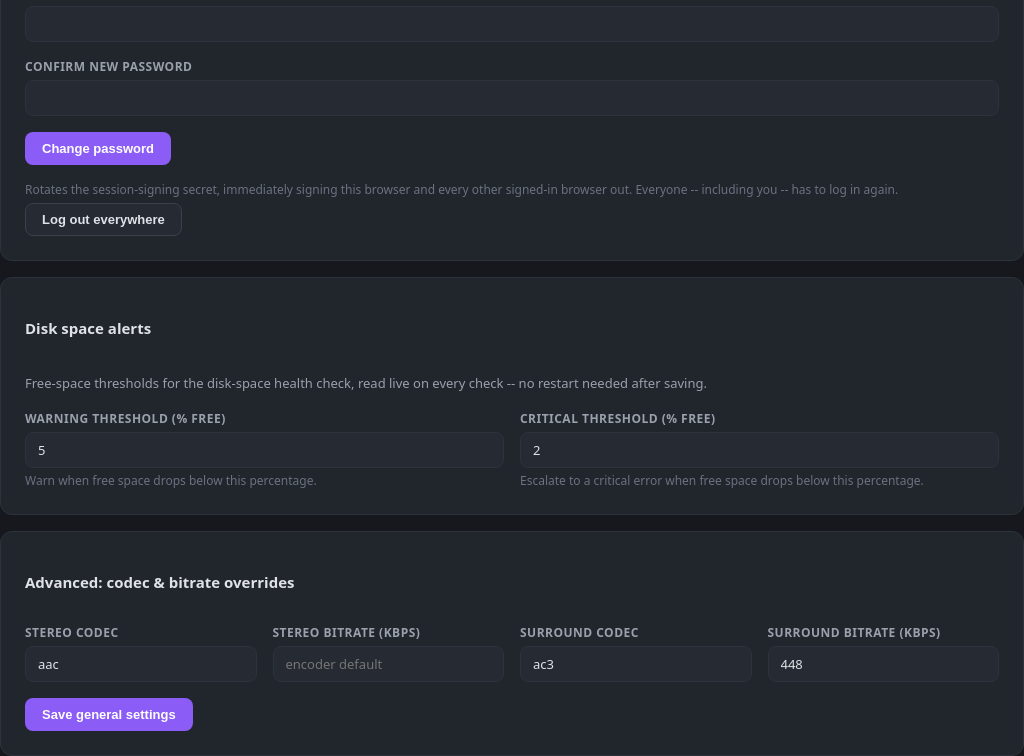
Test: GeneralSection › saves the disk-space thresholds via PUT with the edited values
The width and height of the screenshot is (1024, 756).
(page scrolled)
Replace the text in the number field labelled "Warning threshold (% free)" with "10" at (264, 450), box [25,432,504,468]
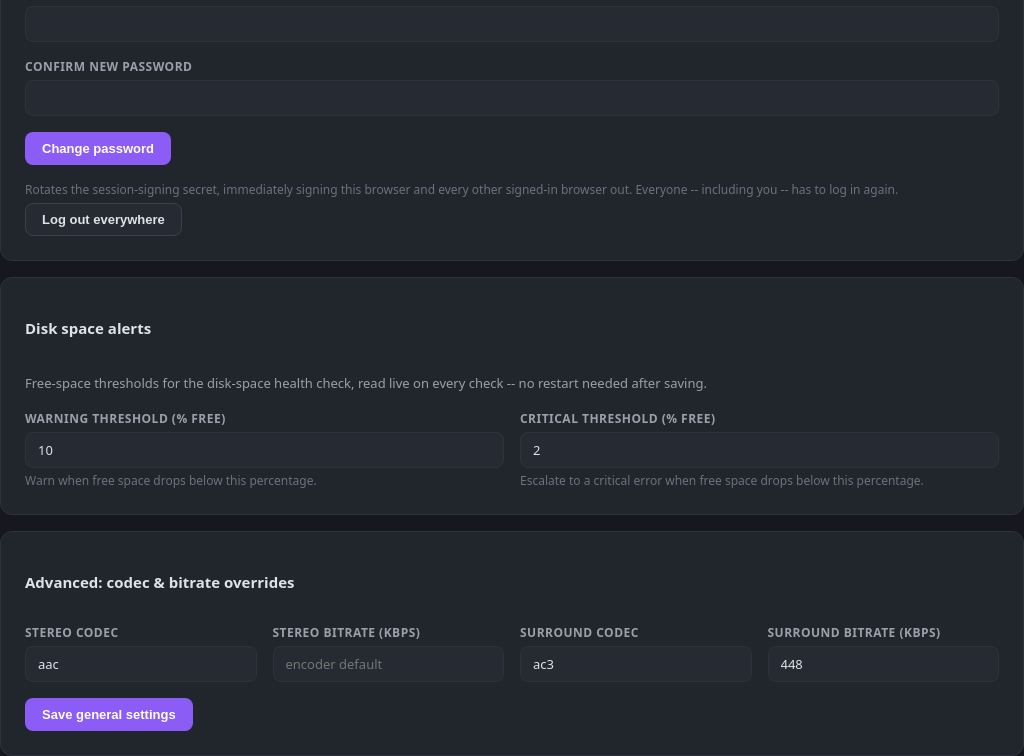
Replace the text in the number field labelled "Critical threshold (% free)" with "3" at (760, 450), box [520,432,999,468]
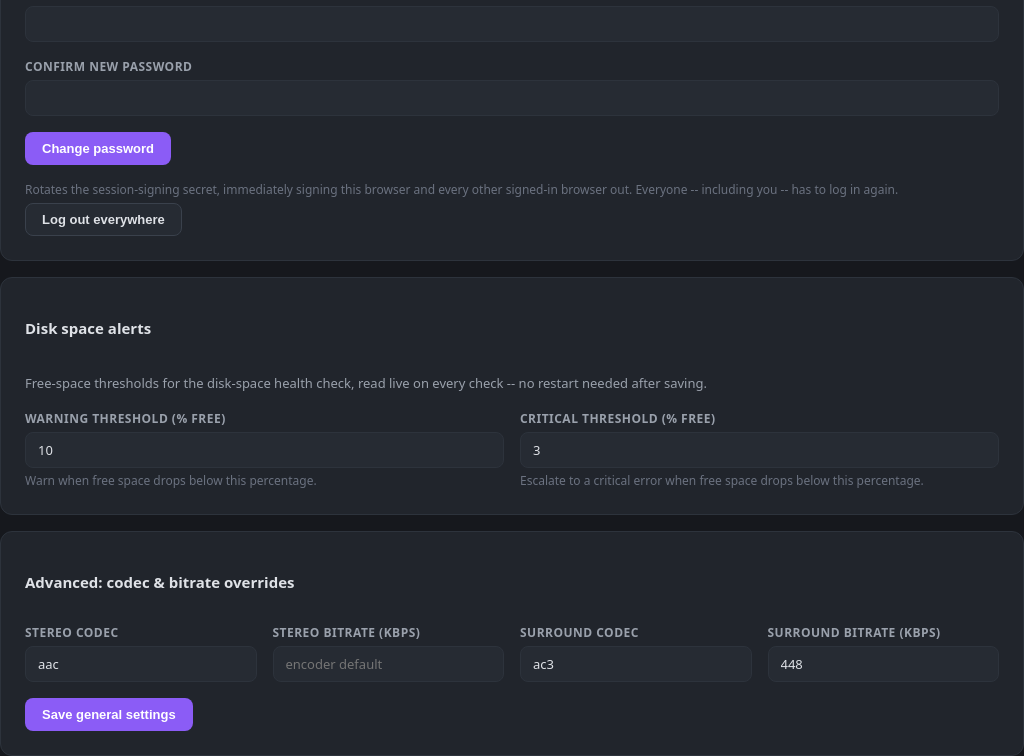
Click the button "Save general settings".
click(109, 715)  # box [25,698,193,731]
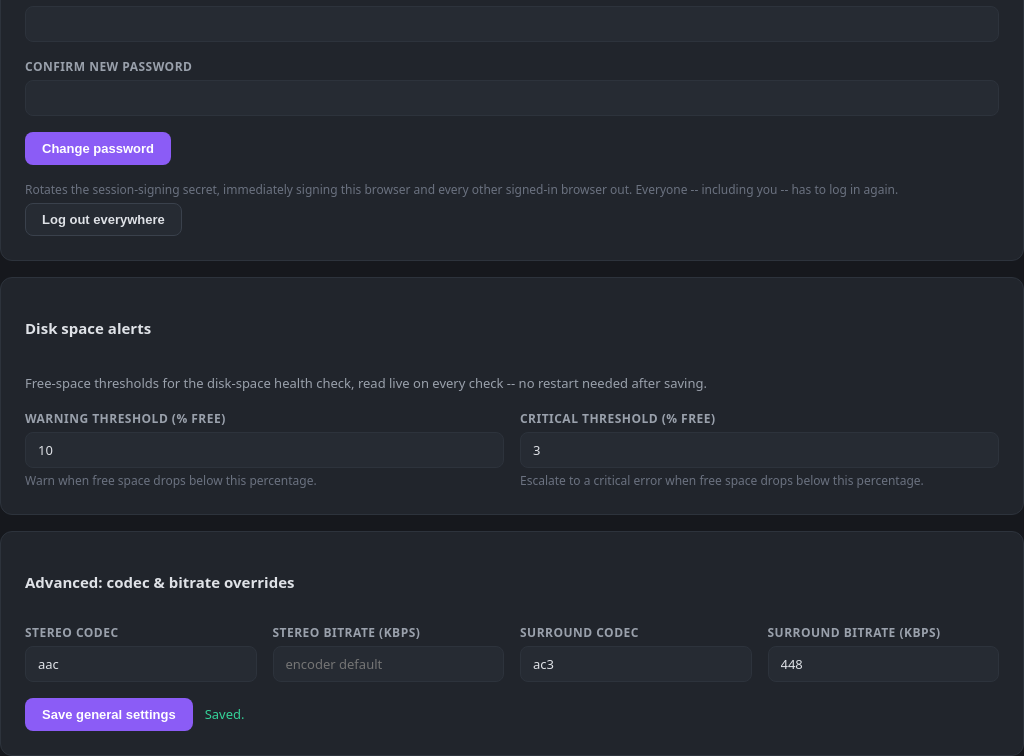
Now the text "Saved." is shown, box [205,705,245,725]
